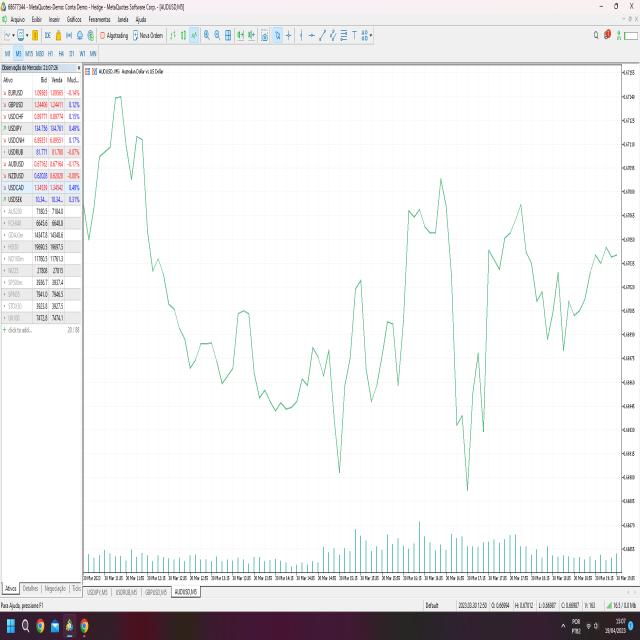fundo_duplo: (449, 322, 501, 506)
topo_duplo: (394, 156, 459, 290)
